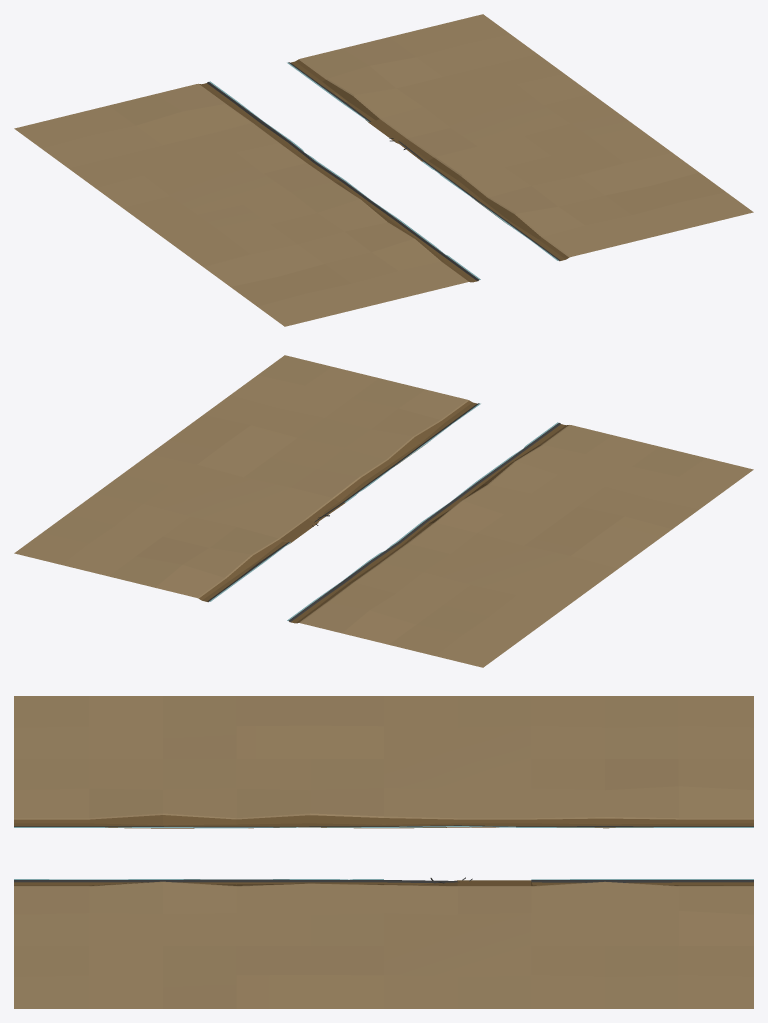
The model's file is model_road_dirtstraight_2_.fbx.
3 renders of one model, top to bottom at view 1: azimuth 30°, elevation 25°; view 2: azimuth 150°, elevation 25°; view 3: azimuth 270°, elevation 25°, orthographic. The views are drawn at different scales.
Parts seen in each view (by area): view 1: model_road_dirt_straight_02; view 2: model_road_dirt_straight_02; view 3: model_road_dirt_straight_02.
Part boxes in pixels (x1,y1,x2,y2): model_road_dirt_straight_02: (14, 14, 753, 326); model_road_dirt_straight_02: (14, 355, 753, 667); model_road_dirt_straight_02: (14, 696, 753, 1008).
Size of the model in its own units: 0.6161 by 0.6161 by 0.00683.
